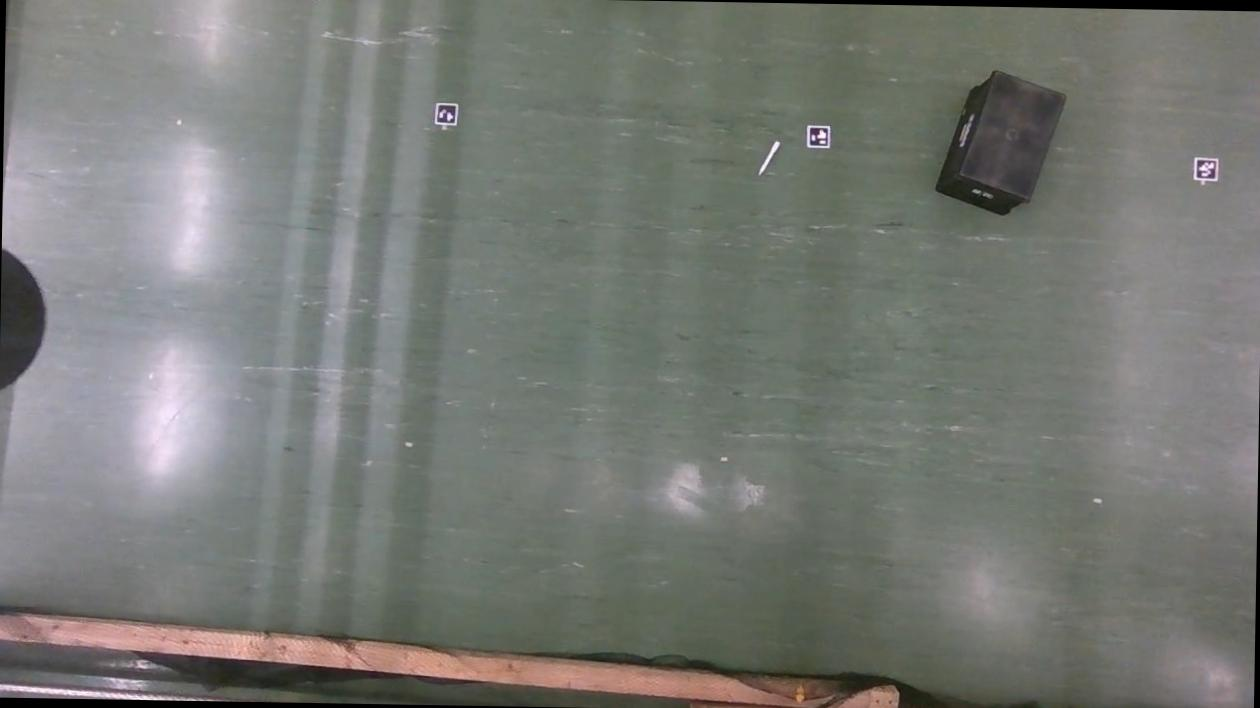probes: (758, 141, 778, 176)
rako: (935, 71, 1066, 219)
